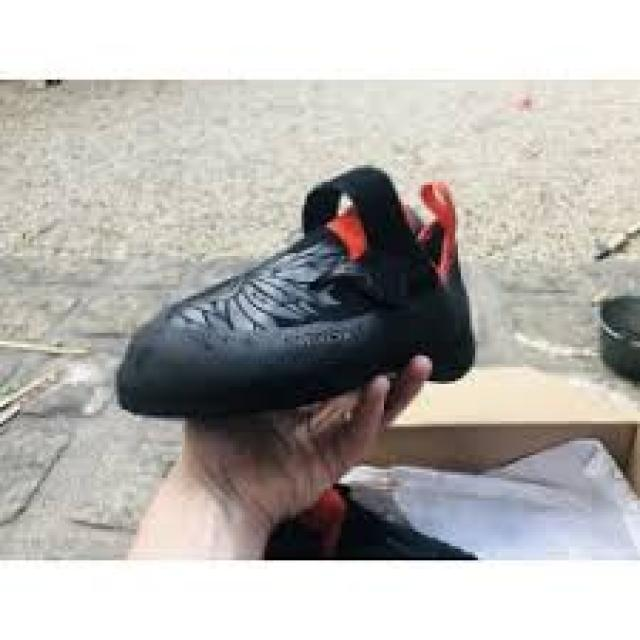climbing-shoes: (114, 175, 476, 420)
